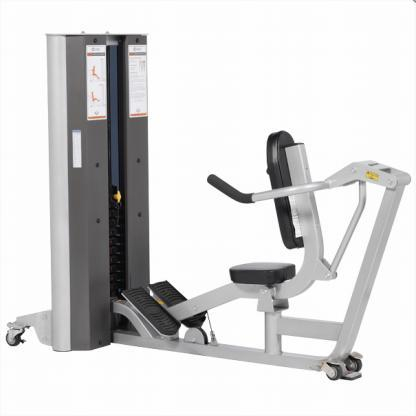seated dip machine: (7, 30, 413, 381)
